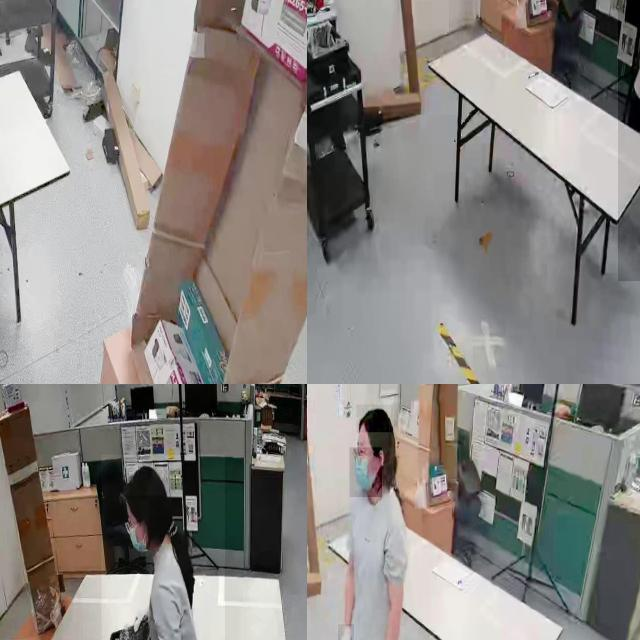face_mask: (350, 447, 382, 497), (124, 498, 148, 562)
hand_glove: (337, 624, 354, 640)
head_nohelmet: (123, 466, 164, 496), (357, 405, 393, 433)
person: (101, 455, 225, 640), (333, 396, 412, 640), (618, 0, 640, 282)
